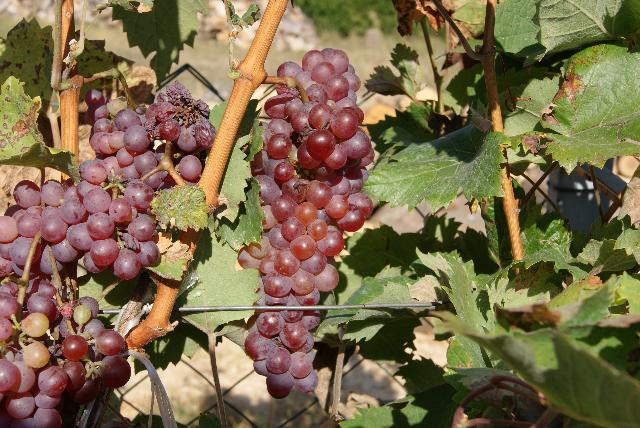grapes: (238, 50, 374, 306), (0, 256, 131, 428), (0, 161, 160, 289), (86, 81, 216, 164), (245, 310, 321, 399)
